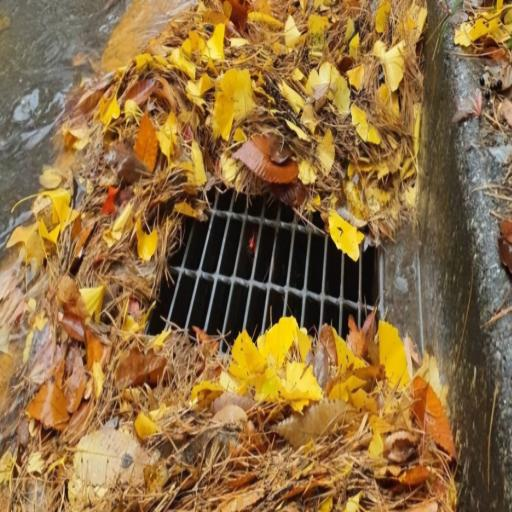debris: (76, 93, 430, 490)
drain: (76, 93, 430, 490)
